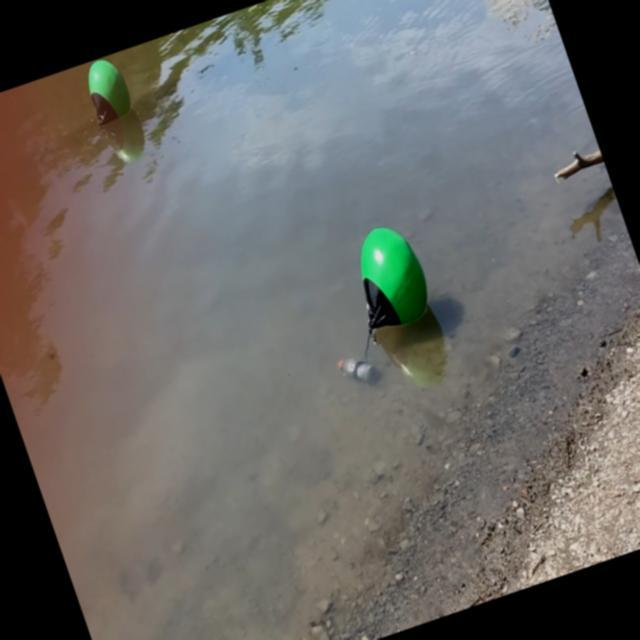buoy: (338, 215, 442, 339), (76, 52, 138, 130)
